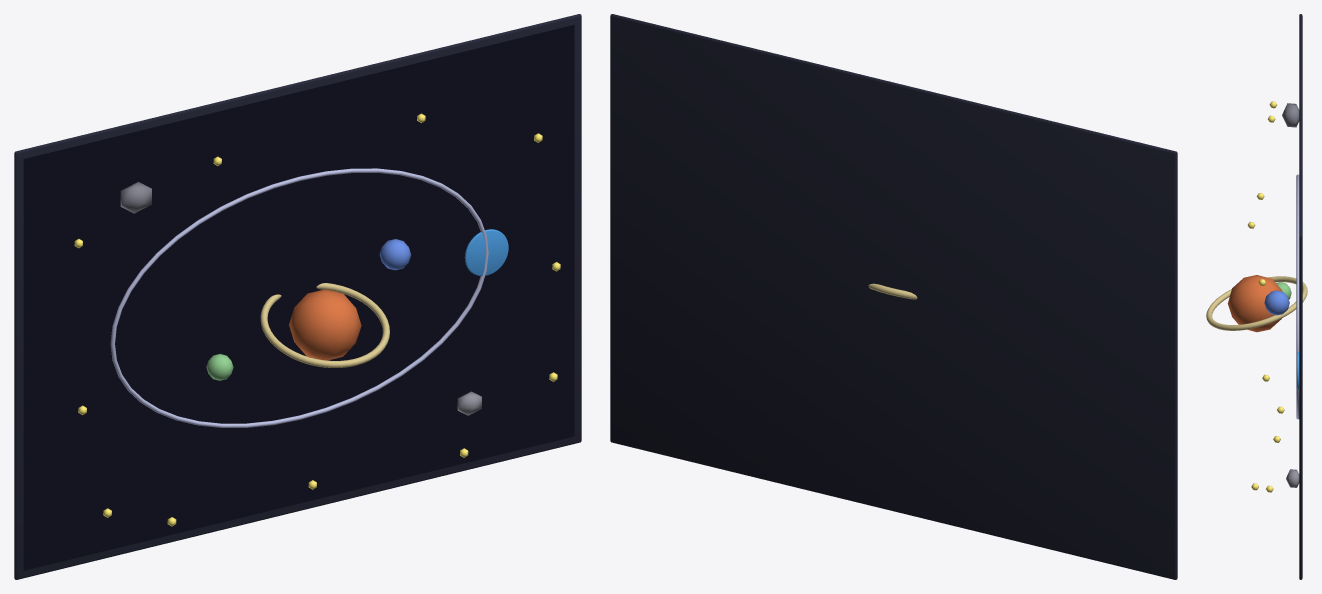
Rendered from carthabot_map_space.obj.
3 views of the same model, side by side, from view 1: azimuth 30°, elevation 25°; view 2: azimuth 150°, elevation 25°; view 3: azimuth 270°, elevation 25° (orthographic). The views are drawn at different scales.
Parts seen in each view (by area): view 1: PlayMat, MatRim, LineLoop, Icosphere, Torus, StartPad, Icosphere.014, Icosphere.001; view 2: MatRim; view 3: MatRim, Icosphere, Torus, LineLoop, Icosphere.001, Icosphere.014, Icosphere.015.
Part boxes in pixels (bbox=[...]): PlayMat: bbox=[23, 24, 574, 570]; MatRim: bbox=[14, 14, 581, 579]; LineLoop: bbox=[110, 168, 488, 427]; Icosphere: bbox=[289, 289, 361, 360]; Torus: bbox=[260, 283, 389, 367]; StartPad: bbox=[464, 229, 508, 275]; Icosphere.014: bbox=[120, 182, 151, 213]; Icosphere.001: bbox=[379, 239, 411, 270]; MatRim: bbox=[610, 14, 1177, 579]; MatRim: bbox=[1299, 14, 1302, 579]; Icosphere: bbox=[1227, 275, 1282, 332]; Torus: bbox=[1206, 276, 1307, 330]; LineLoop: bbox=[1296, 174, 1299, 419]; Icosphere.001: bbox=[1264, 290, 1289, 315]; Icosphere.014: bbox=[1282, 103, 1299, 127]; Icosphere.015: bbox=[1286, 469, 1299, 487].
Bounding box in the file's own units: 28.8 × 20.8 × 5.54.
